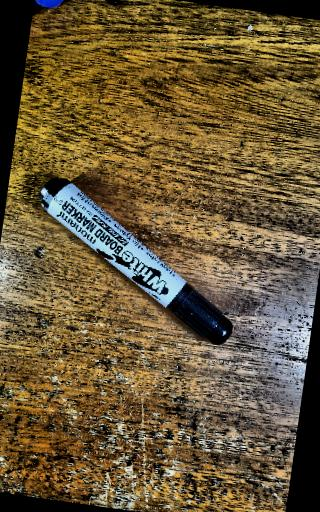marcador negro: (39, 178, 233, 344)
